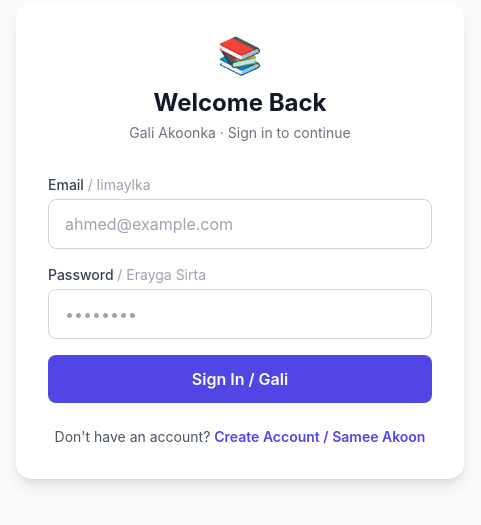
Test case: Login mode › shows "Email is required" when submitting with empty email
The image size is (481, 525).
Step 1. Click the button "Sign In / Gali" → [240, 379], box 48,355 -> 432,403
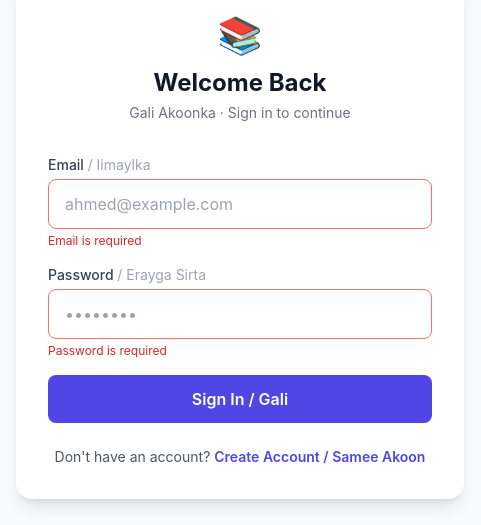
expect the text "Email is required" is shown: met, box 48,233 -> 142,248
